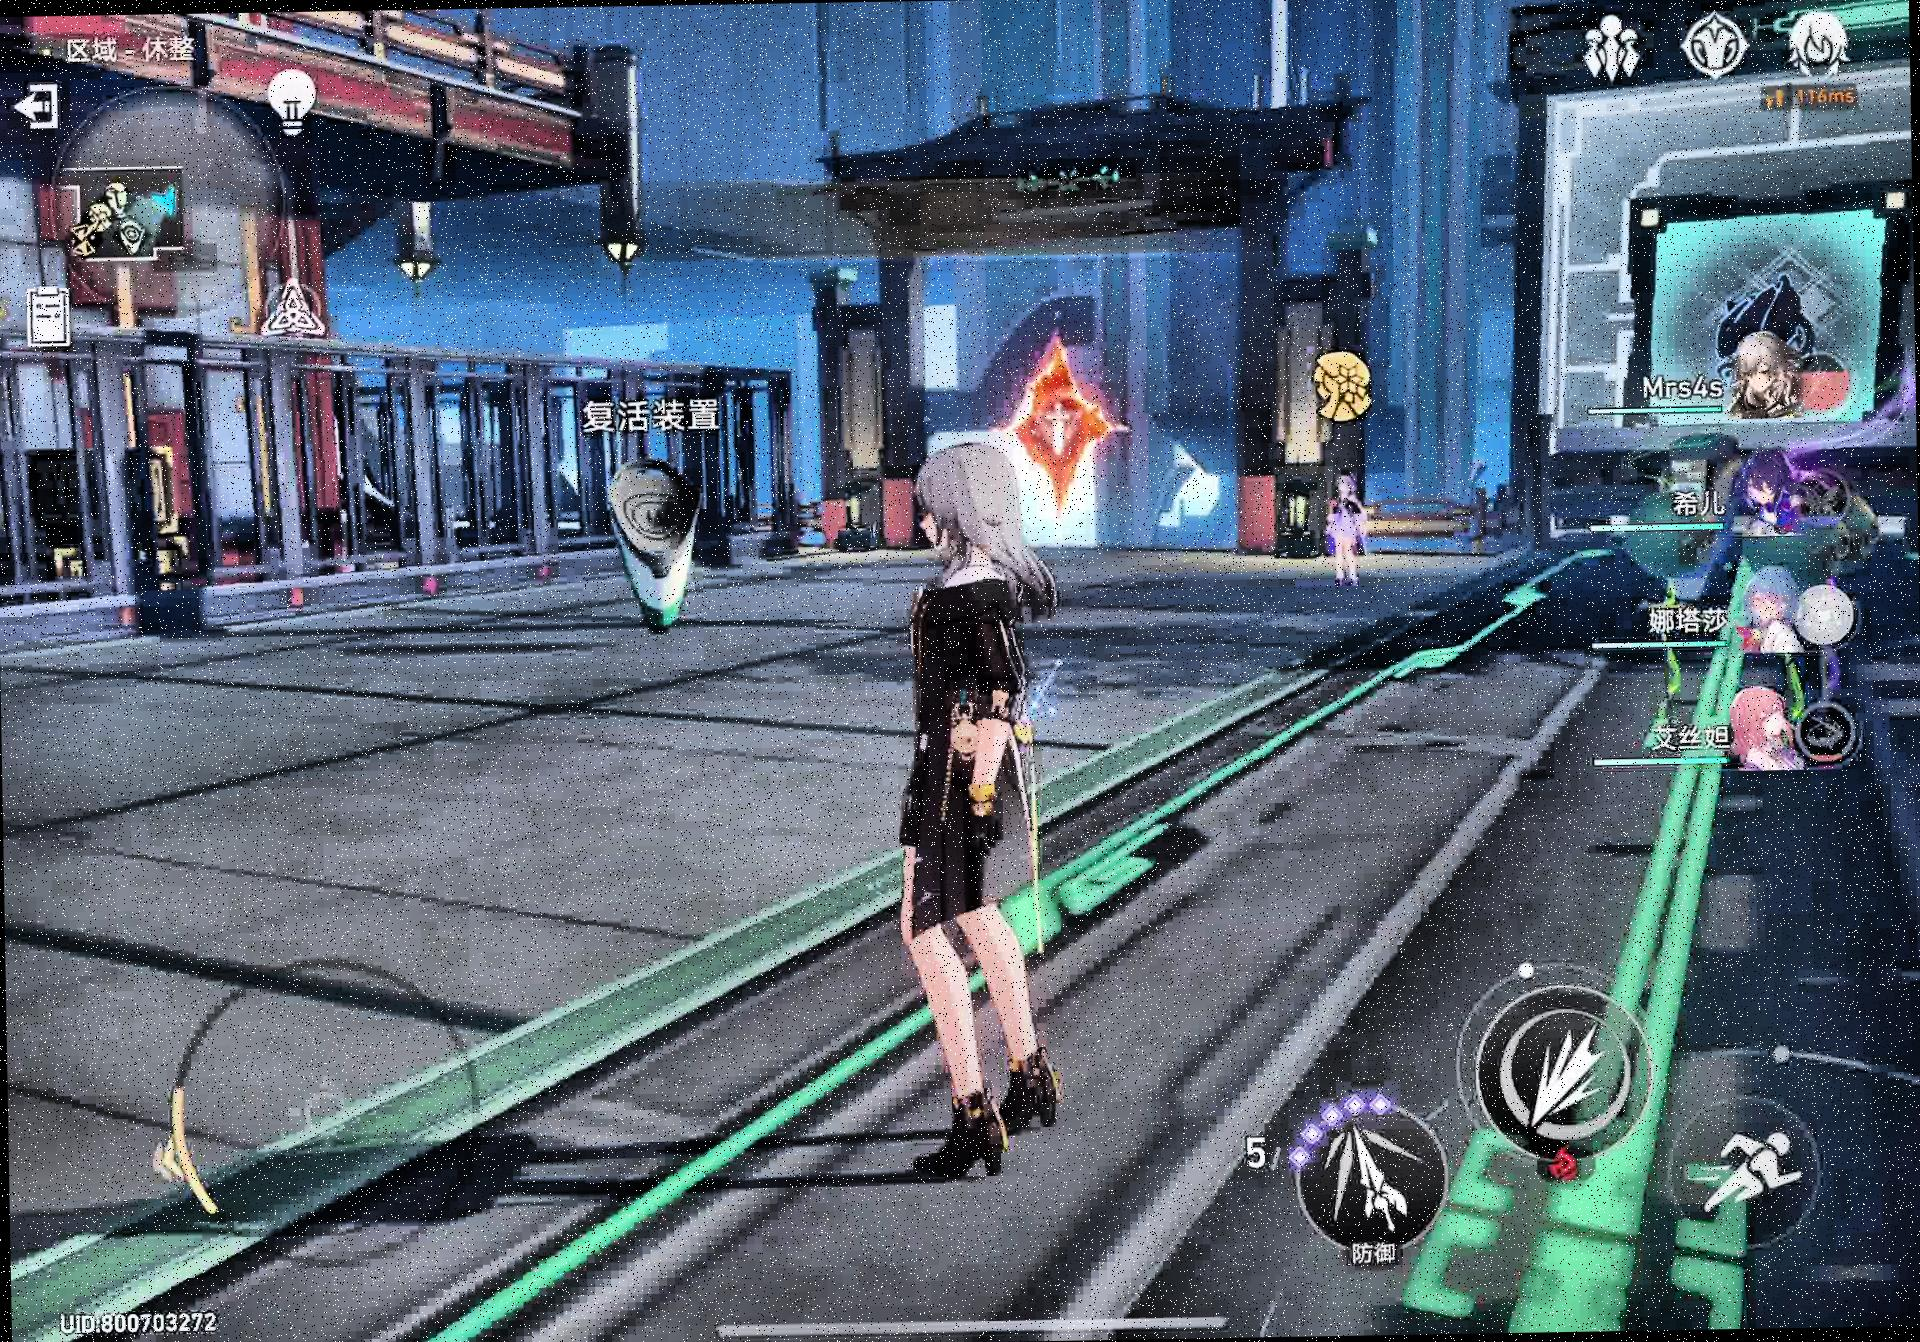BattleDoor: (996, 337, 1135, 505)
Self: (891, 436, 1065, 1183)
TeamMate: (1313, 471, 1376, 589)
